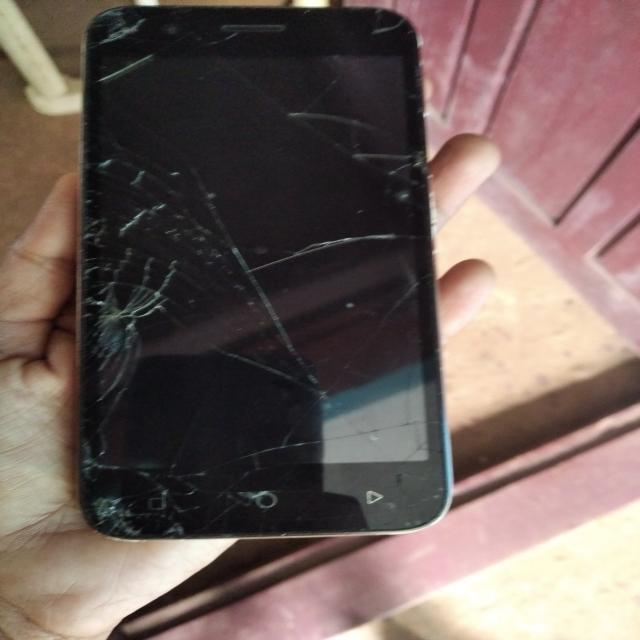Crack: (78, 106, 430, 434), (76, 435, 269, 537), (87, 5, 163, 91)
